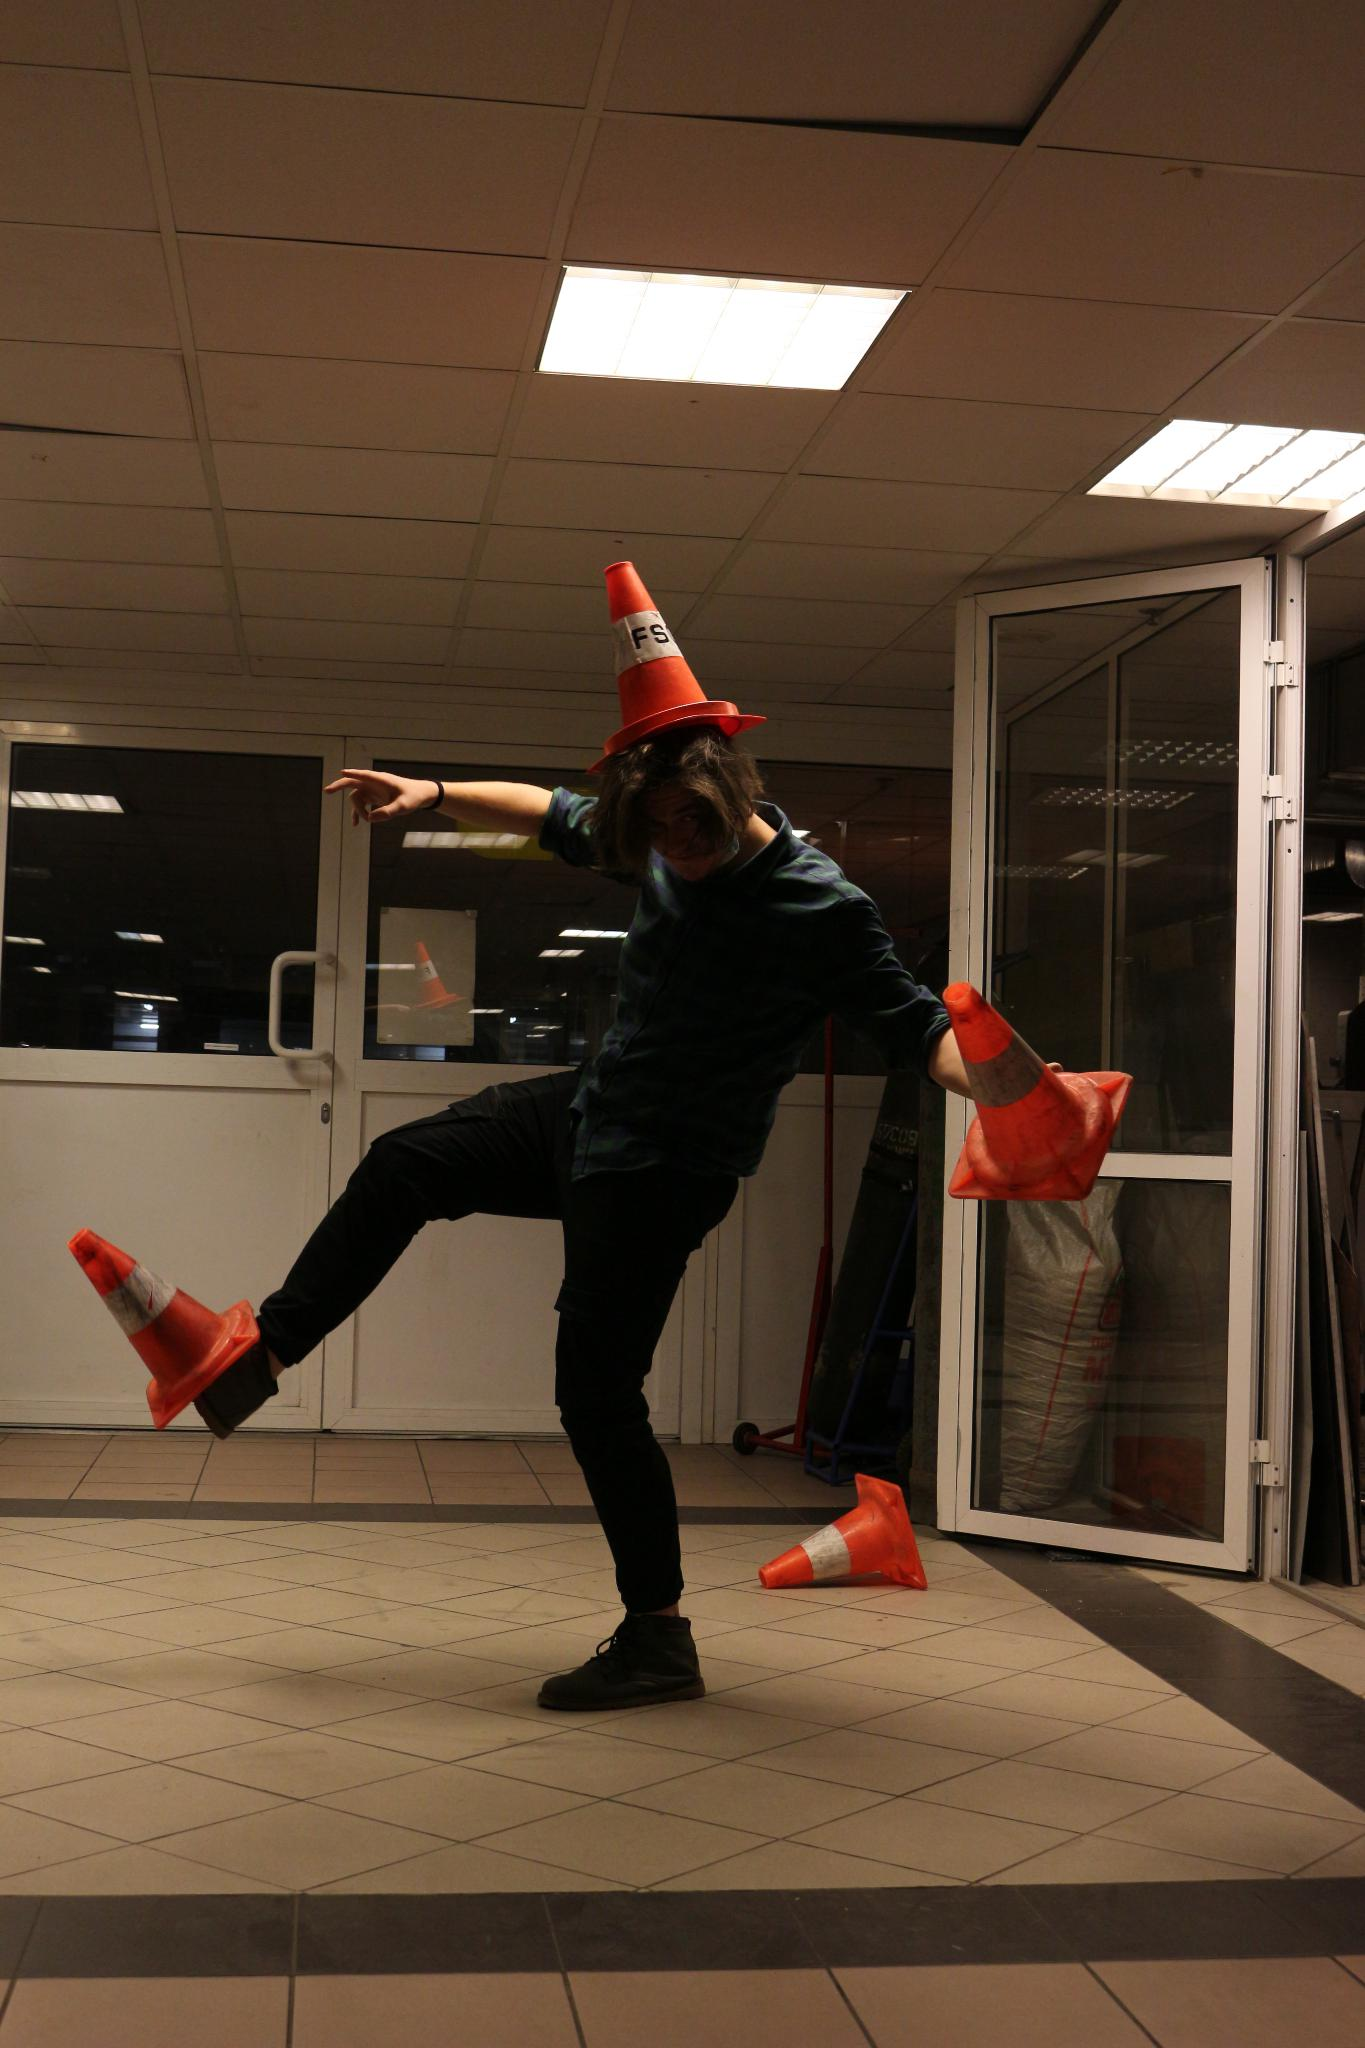Orange_Cone: (941, 967, 1112, 1203), (66, 1223, 235, 1416), (603, 542, 725, 748), (737, 1475, 935, 1597)
